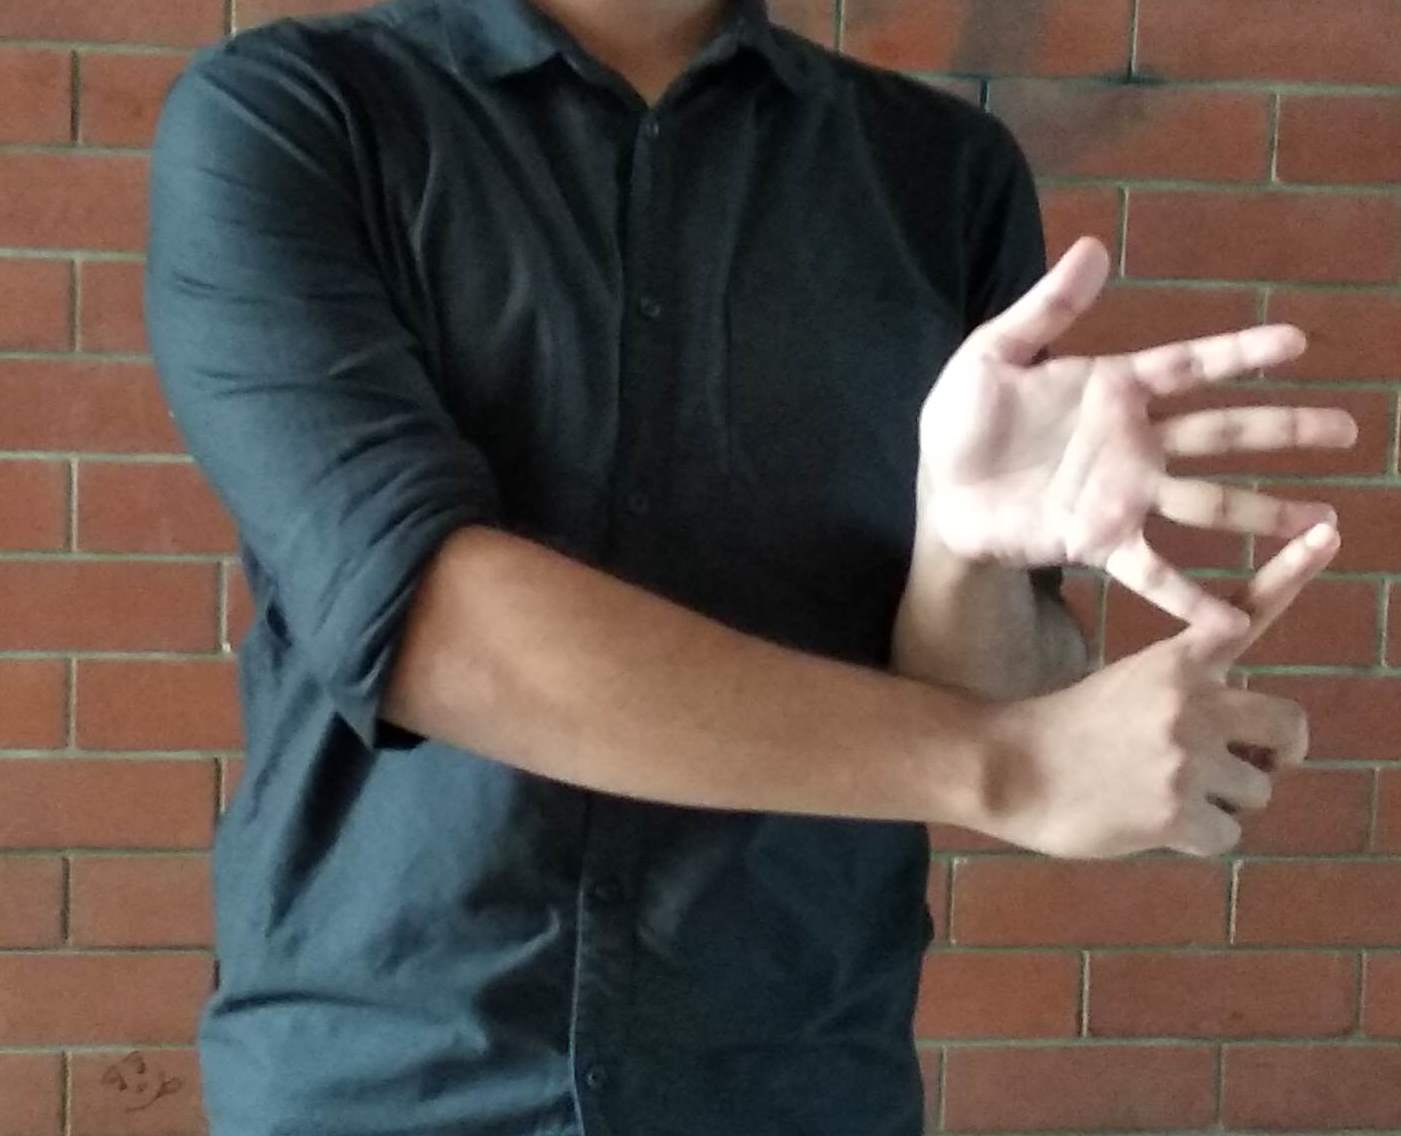e: (920, 249, 1330, 868)
